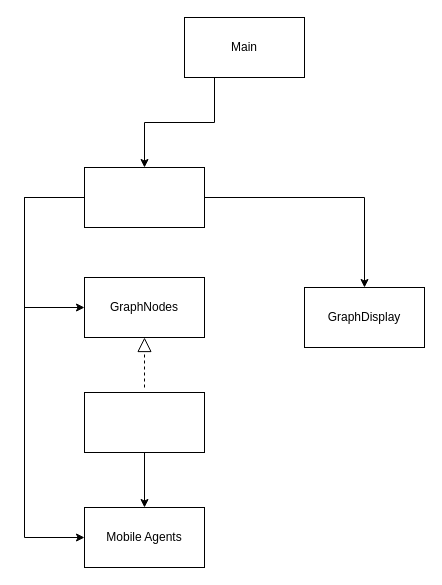
This 442x585 diagram has some shape labels left out. The centre of each missing label's shape, as x and y in pixels:
"BaseStation" belongs at [144,422].
"Gragh" belongs at [144,197].
